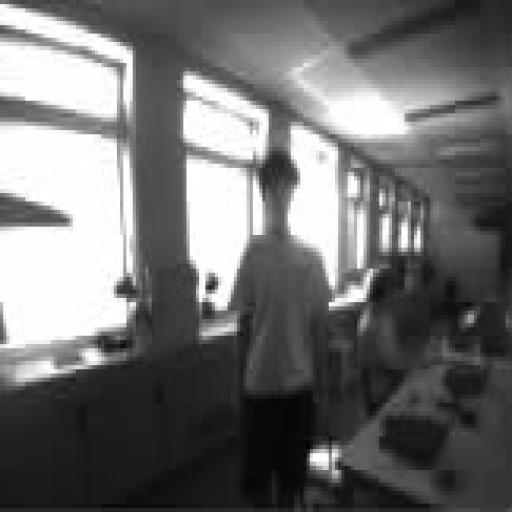human: (231, 147, 331, 507), (358, 269, 407, 415)
